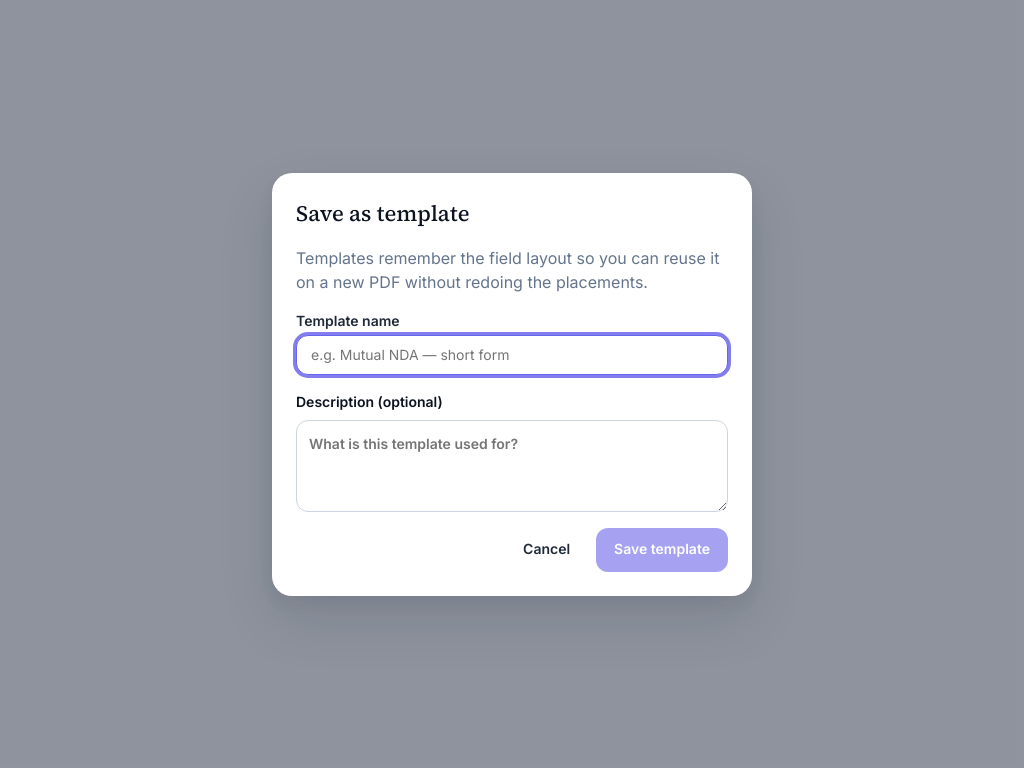
Test case: SaveAsTemplateDialog › disables Save until the title is non-empty
Expected: the button "Save template" is disabled, [596, 528, 728, 572]
Type "My template" into the field labelled "Template name" at (512, 354), box [296, 334, 728, 374]
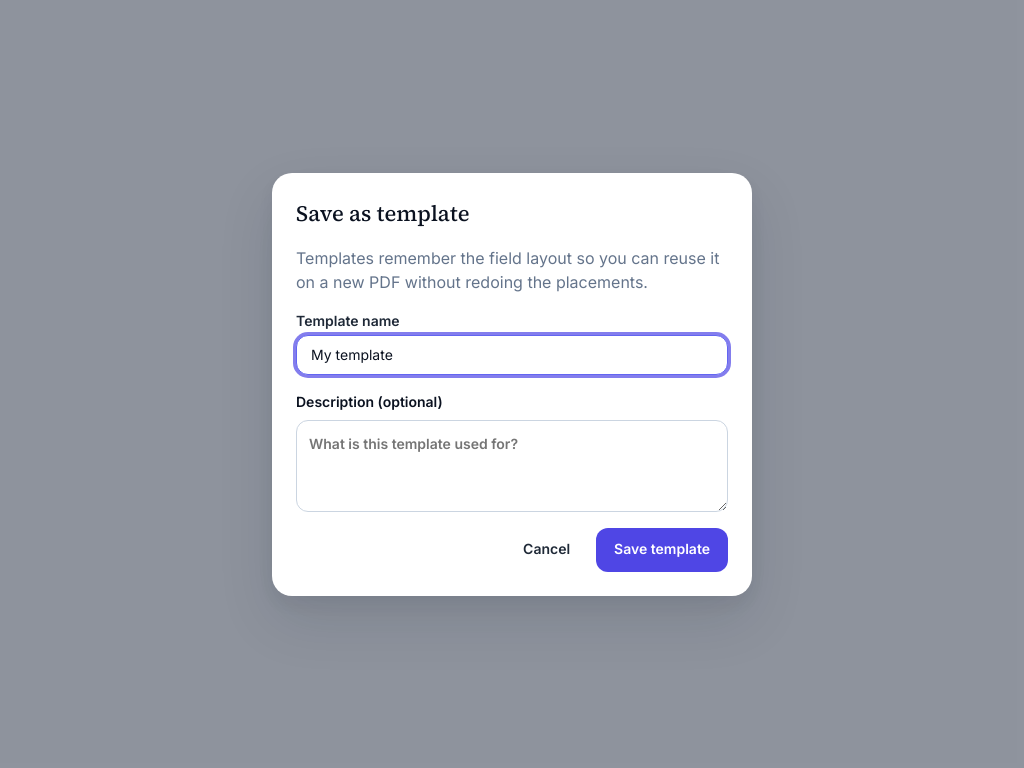
Now the button "Save template" is enabled, box [596, 528, 728, 572]
